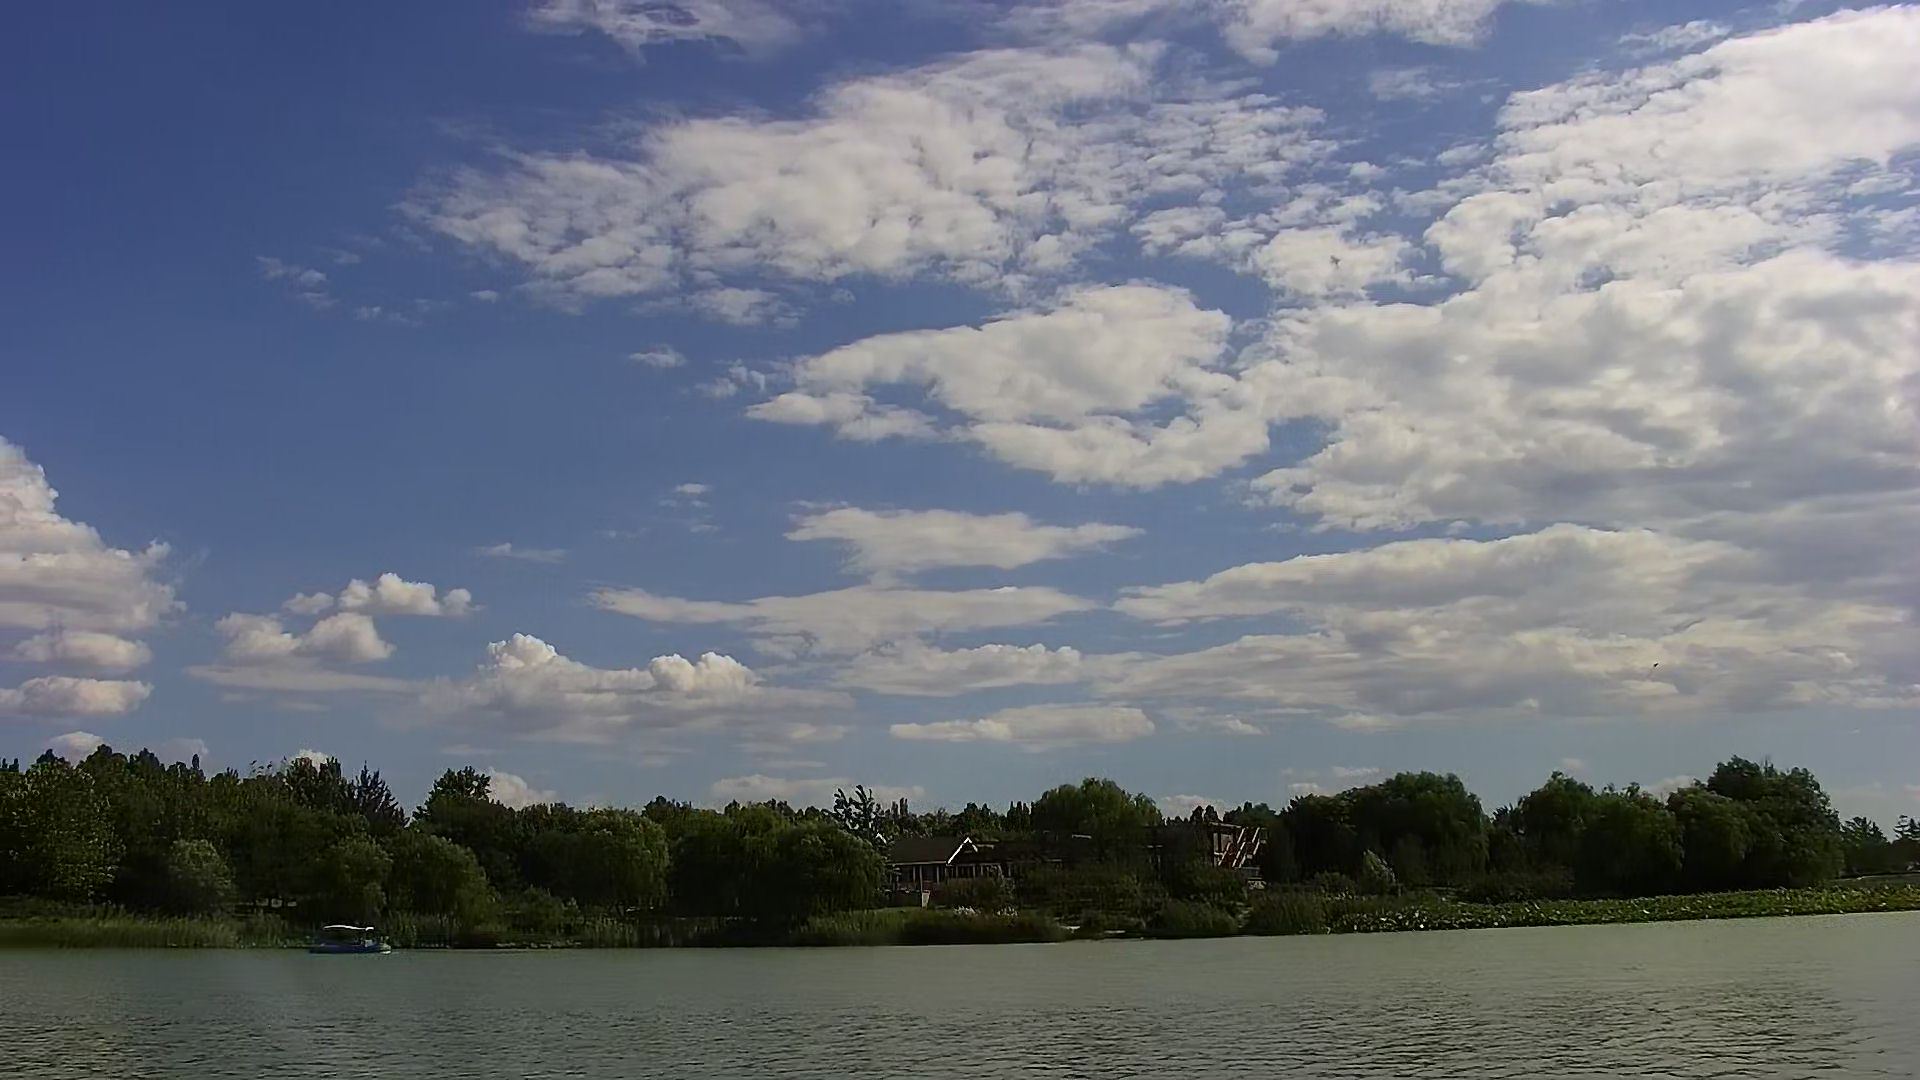boat: (305, 915, 397, 959)
